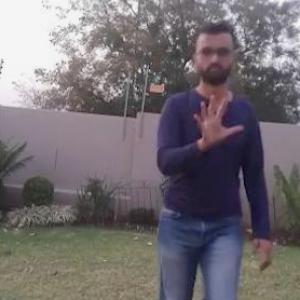follow_hand: (191, 90, 245, 148)
